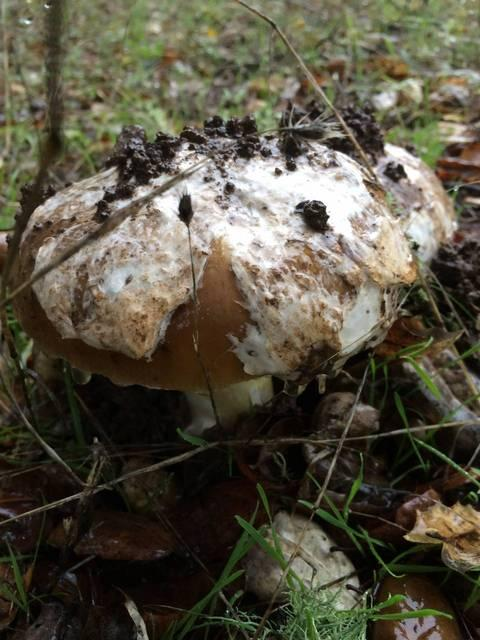edible_mushroom: (2, 109, 453, 438), (241, 510, 362, 613), (368, 572, 465, 639)
